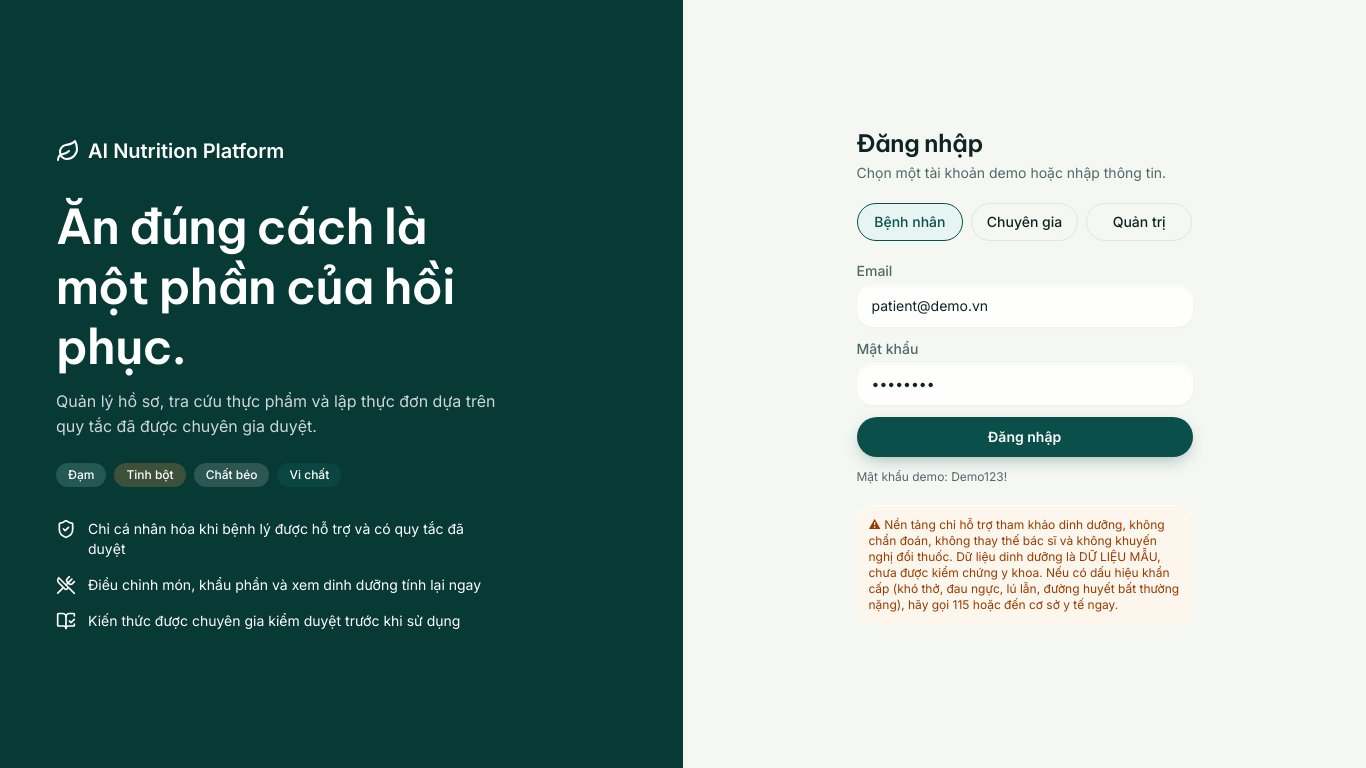
UI › validates email format
Replace the text in the field labelled "Email" with "abc": (1024, 306) [856, 285, 1192, 327]
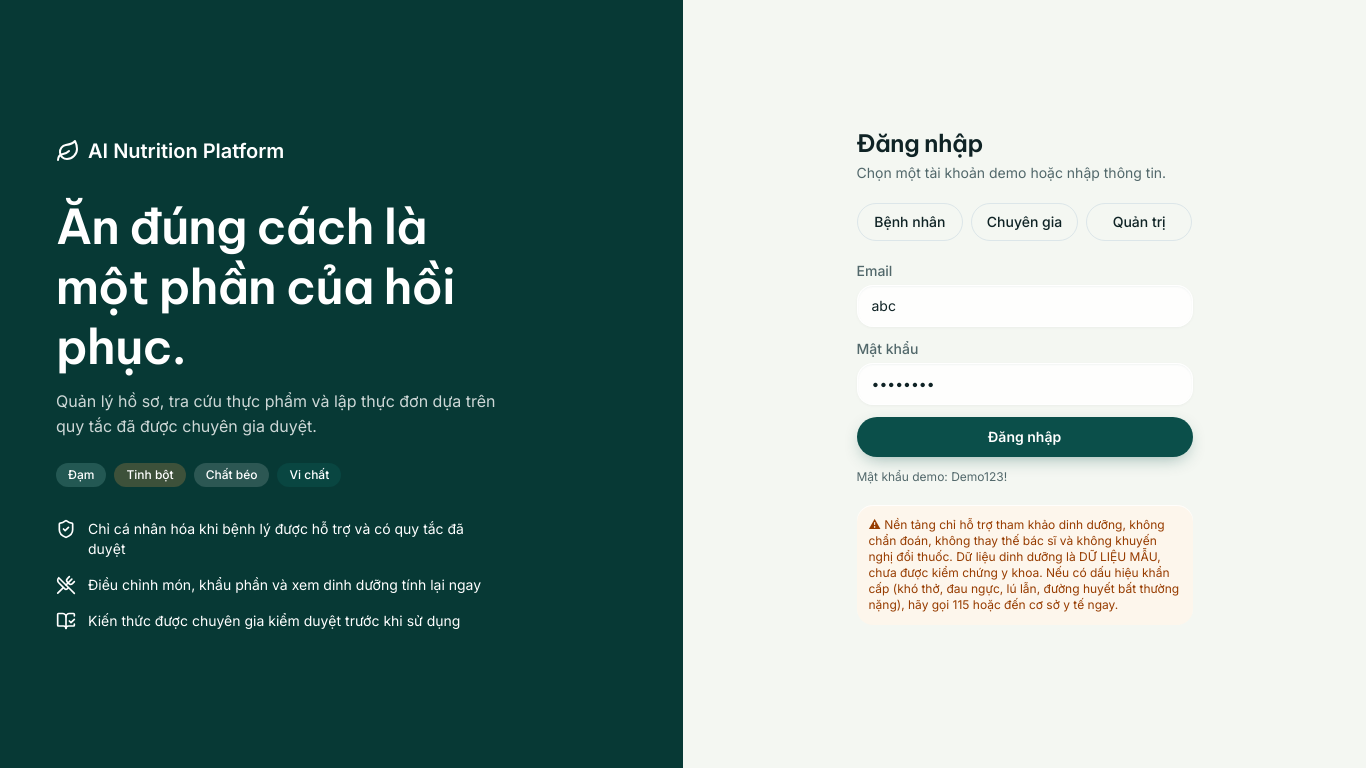
Click the button "Đăng nhập": (1024, 437) [856, 417, 1192, 457]
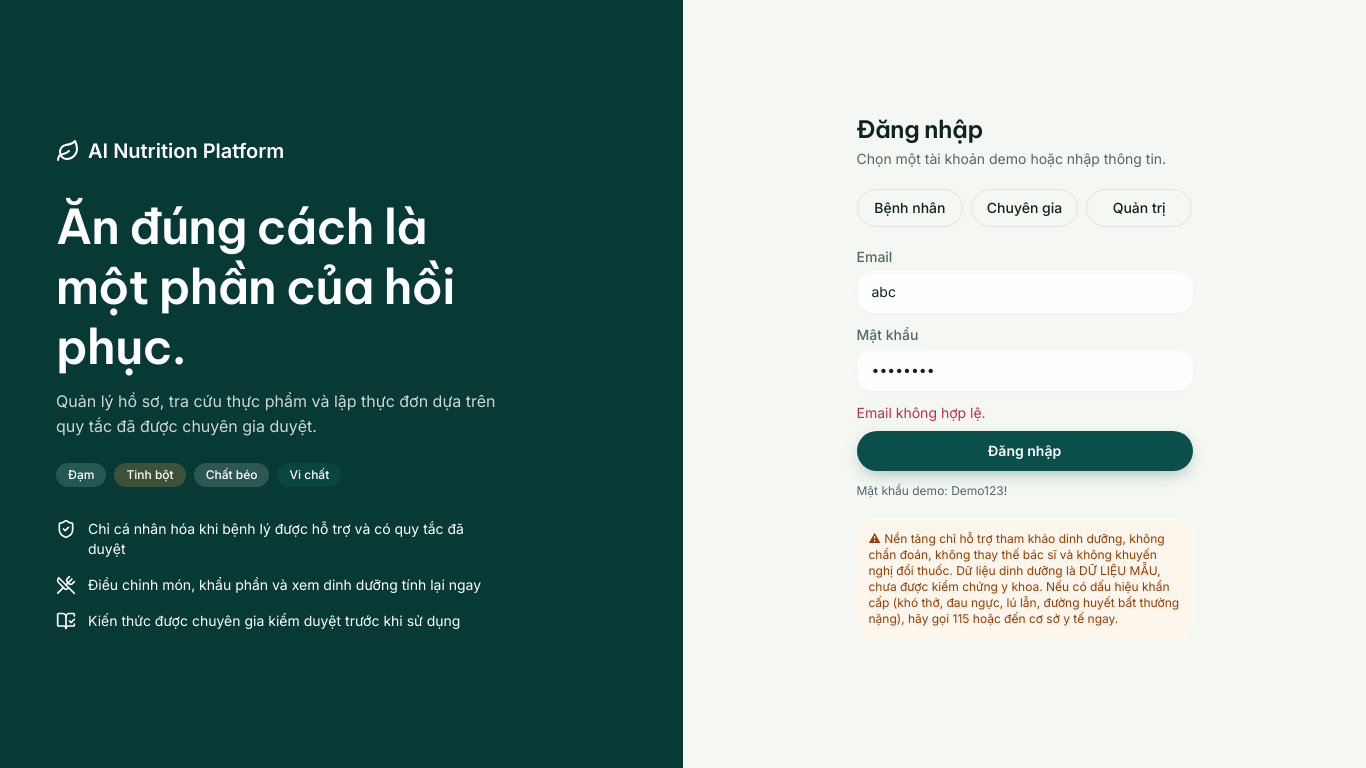
Now the message shows "Email không hợp lệ", box [856, 404, 986, 421]
